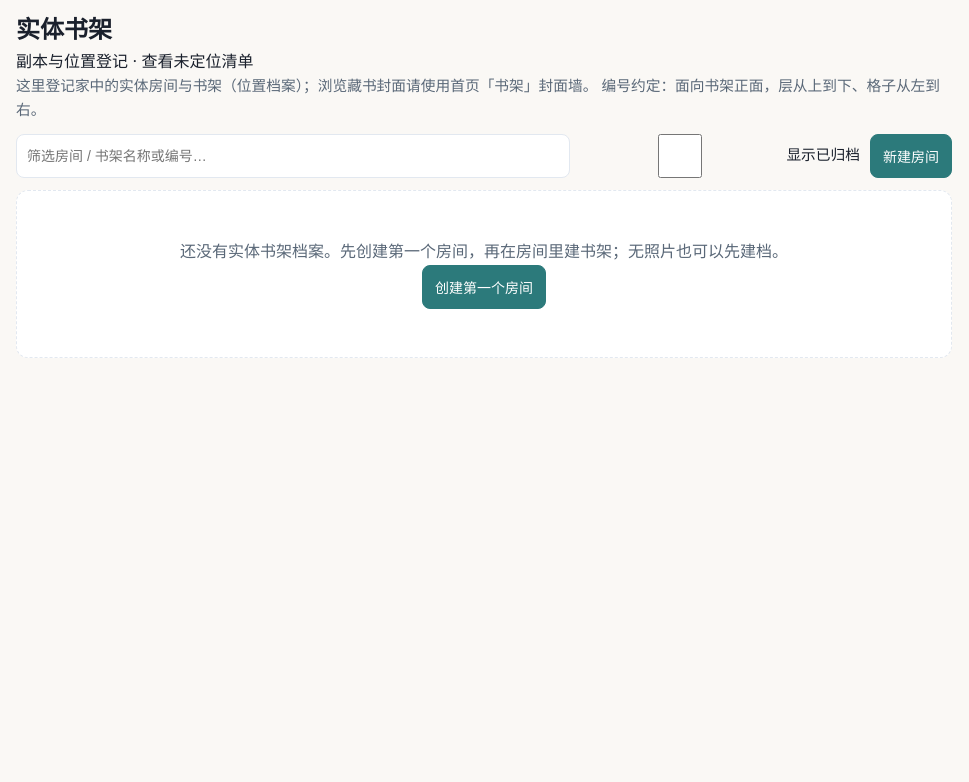
Test: StorageView › 建档房间：POST 携带幂等键与表单字段
The image size is (969, 782).
Click the button "新建房间". click: (911, 156)
box: [870,134,952,178]
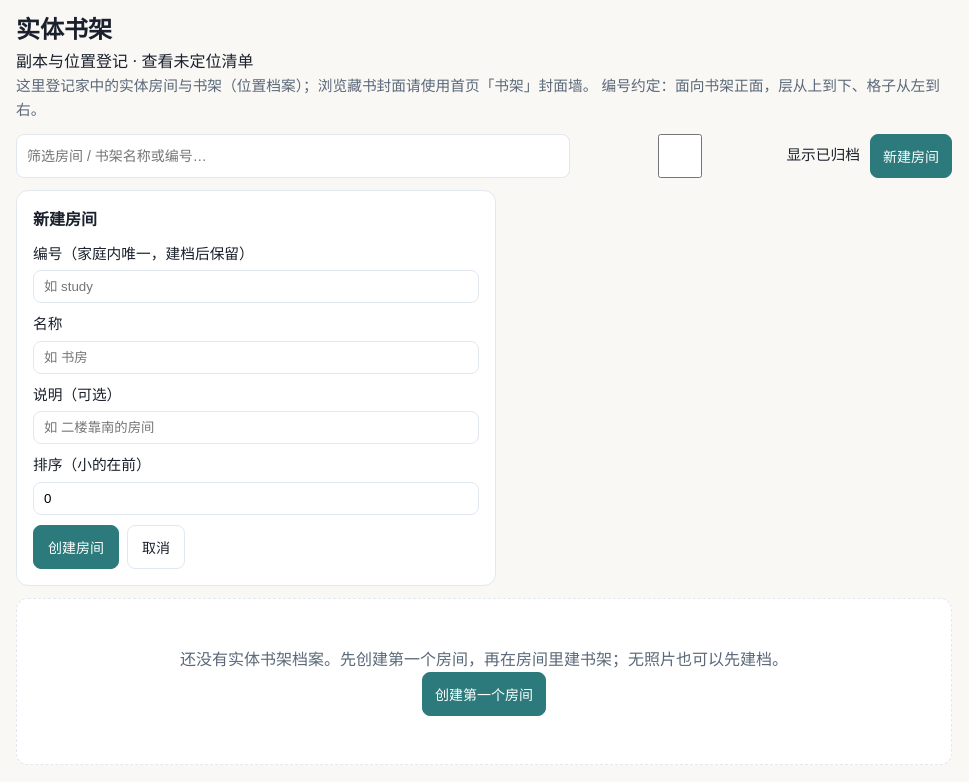
Type "living" into the field labelled "编号（家庭内唯一，建档后保留）". click: (256, 287)
box: [33,270,479,303]
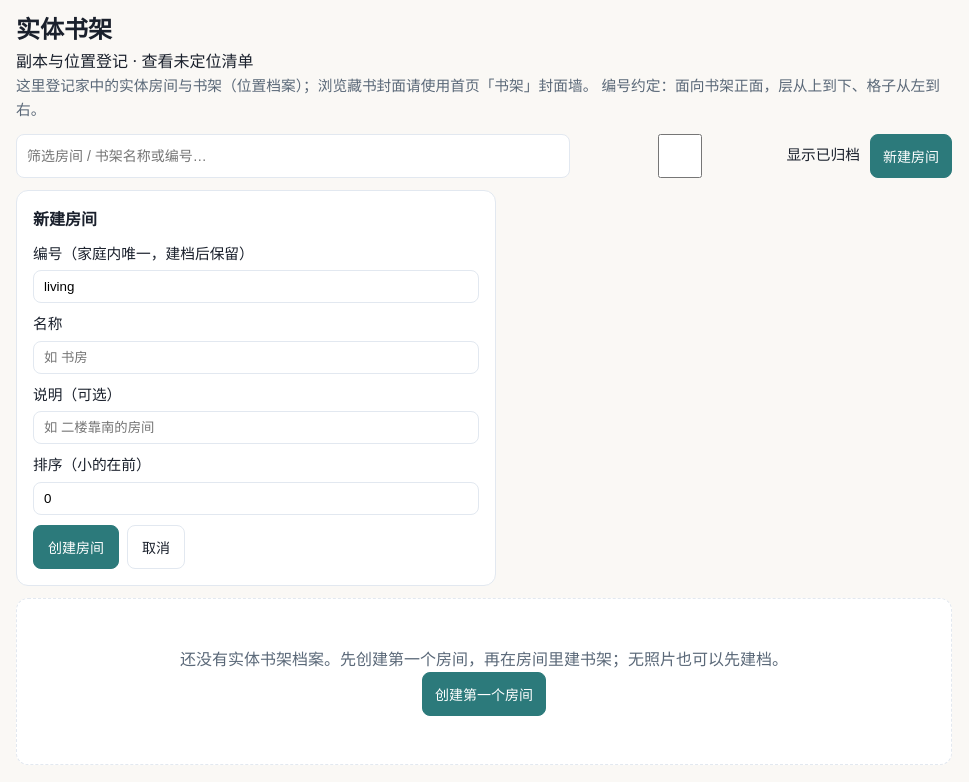
Type "客厅" into the field labelled "名称". click: (256, 357)
box: [33,341,479,374]
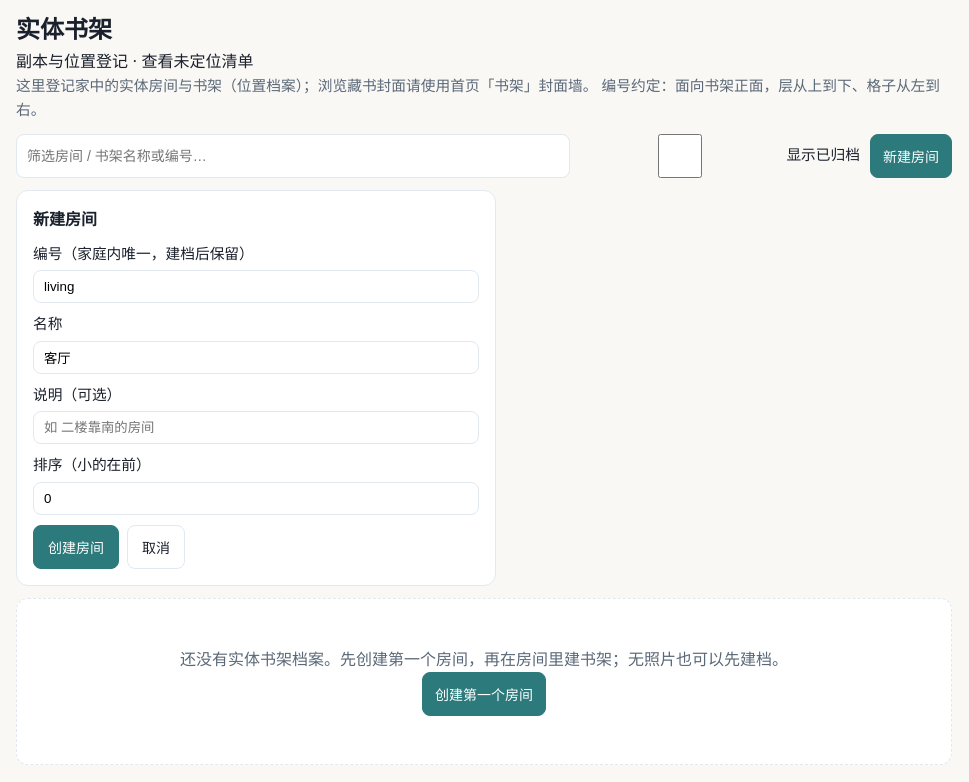
Submit the form with class "storage-form", box [16,190,496,586]
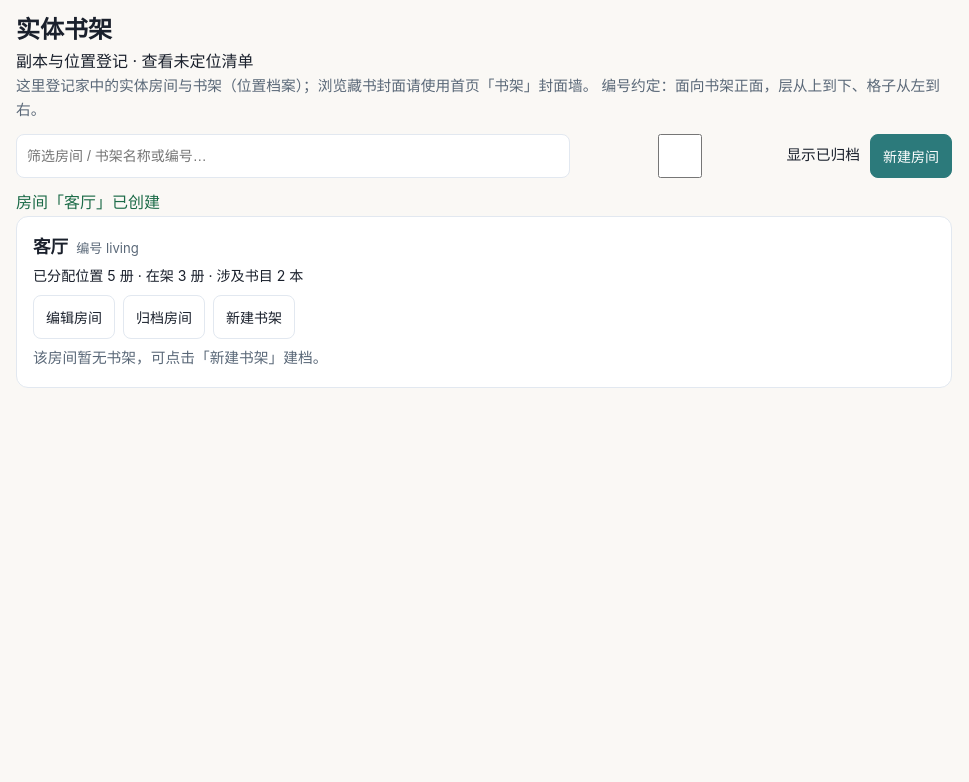
expect the text "客厅" is shown: met, box [16,192,160,212]
expect the text "已创建" is shown: met, box [16,192,160,212]
